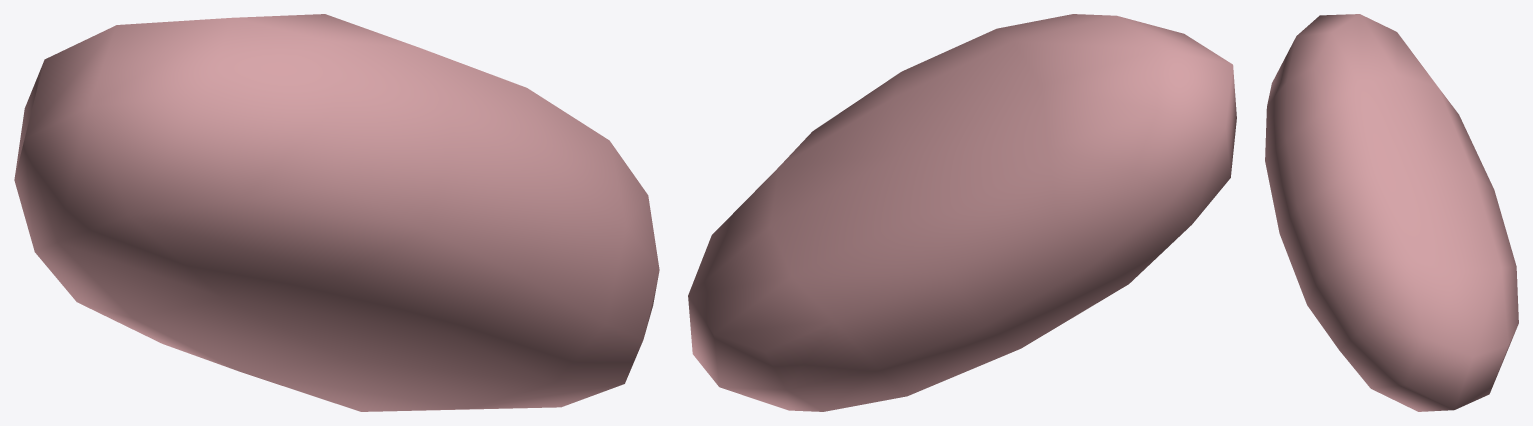
3 views of the same model, side by side, from view 1: azimuth 30°, elevation 25°; view 2: azimuth 150°, elevation 25°; view 3: azimuth 270°, elevation 25° (orthographic). The views are drawn at different scales.
Parts seen in each view (by area): view 1: ZA_aed4145d6e2938de; view 2: ZA_aed4145d6e2938de; view 3: ZA_aed4145d6e2938de.
Boxes of the visible parts, x1=… form: ZA_aed4145d6e2938de: x1=14, y1=14, x2=659, y2=411; ZA_aed4145d6e2938de: x1=688, y1=14, x2=1236, y2=411; ZA_aed4145d6e2938de: x1=1265, y1=14, x2=1518, y2=411.
Bounding box in the file's own units: 0.00389 × 0.00308 × 0.00252.
